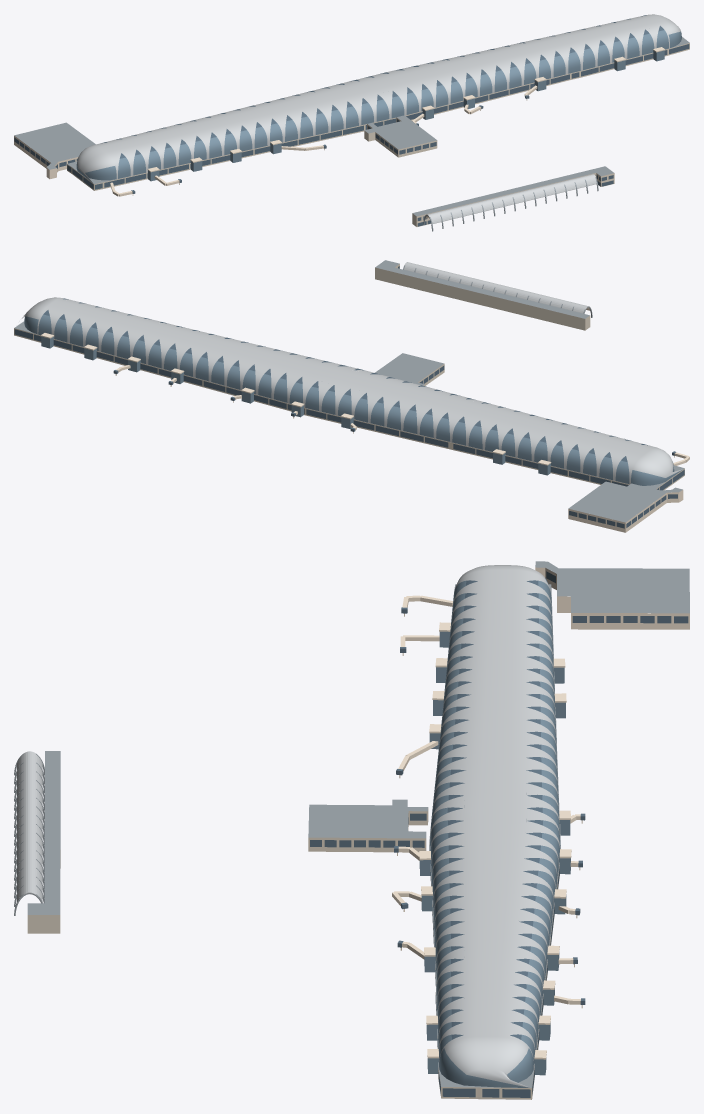
File: dubai-dxb-terminal-3.detail.glb
3 renders of one model, top to bottom at view 1: azimuth 30°, elevation 25°; view 2: azimuth 150°, elevation 25°; view 3: azimuth 270°, elevation 25°, orthographic. The views are drawn at different scales.
Visible parts, largest first — view 1: Dubai International Airport Terminal 3 and Concourse B; view 2: Dubai International Airport Terminal 3 and Concourse B; view 3: Dubai International Airport Terminal 3 and Concourse B.
Part boxes in pixels (x1,y1,x2,y2): Dubai International Airport Terminal 3 and Concourse B: [14, 14, 689, 231]; Dubai International Airport Terminal 3 and Concourse B: [14, 260, 689, 532]; Dubai International Airport Terminal 3 and Concourse B: [14, 561, 689, 1099].
Size of the model in its own units: 953 by 38 by 522.
